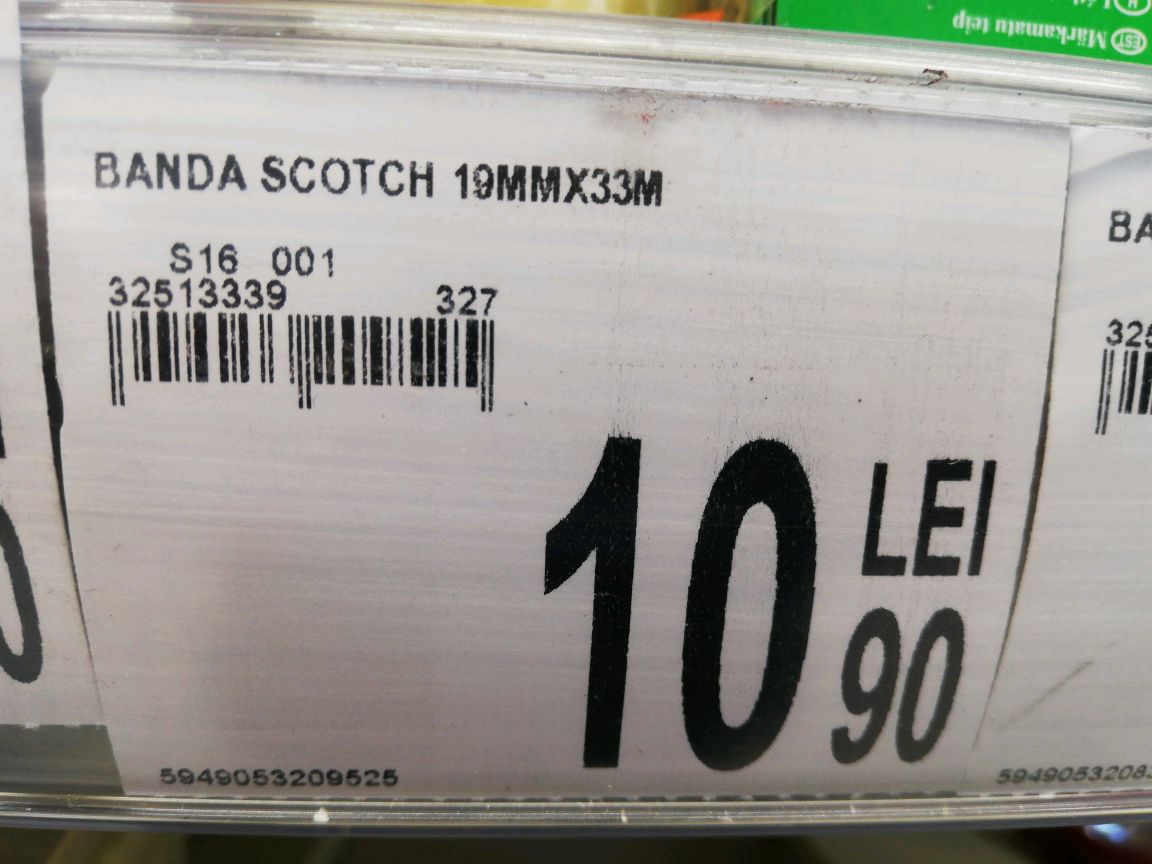price_bani: (820, 599, 978, 776)
price_lei: (533, 424, 832, 781)
price_tag: (41, 44, 1010, 819)
product_id: (145, 748, 412, 797)
product_name: (76, 137, 682, 226)
